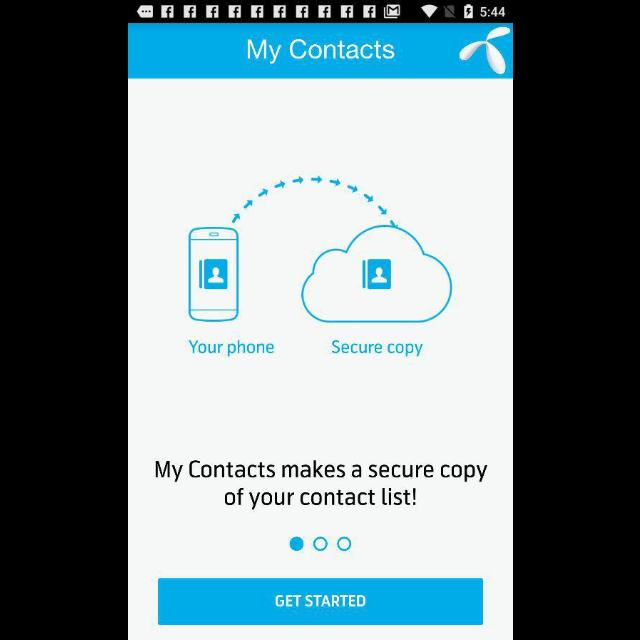image: (188, 175, 452, 359), (458, 27, 510, 75)
pageindicator: (288, 536, 352, 552)
text: (155, 460, 487, 510), (246, 39, 394, 65)
textbutton: (157, 578, 483, 624)
uppertaskbar: (128, 1, 512, 23)
